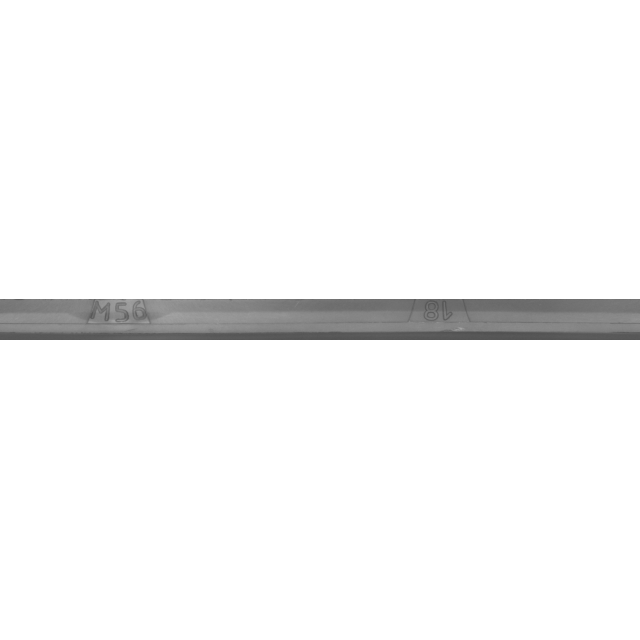mohao: (22, 270, 222, 370)
xuehao: (337, 270, 537, 370)
